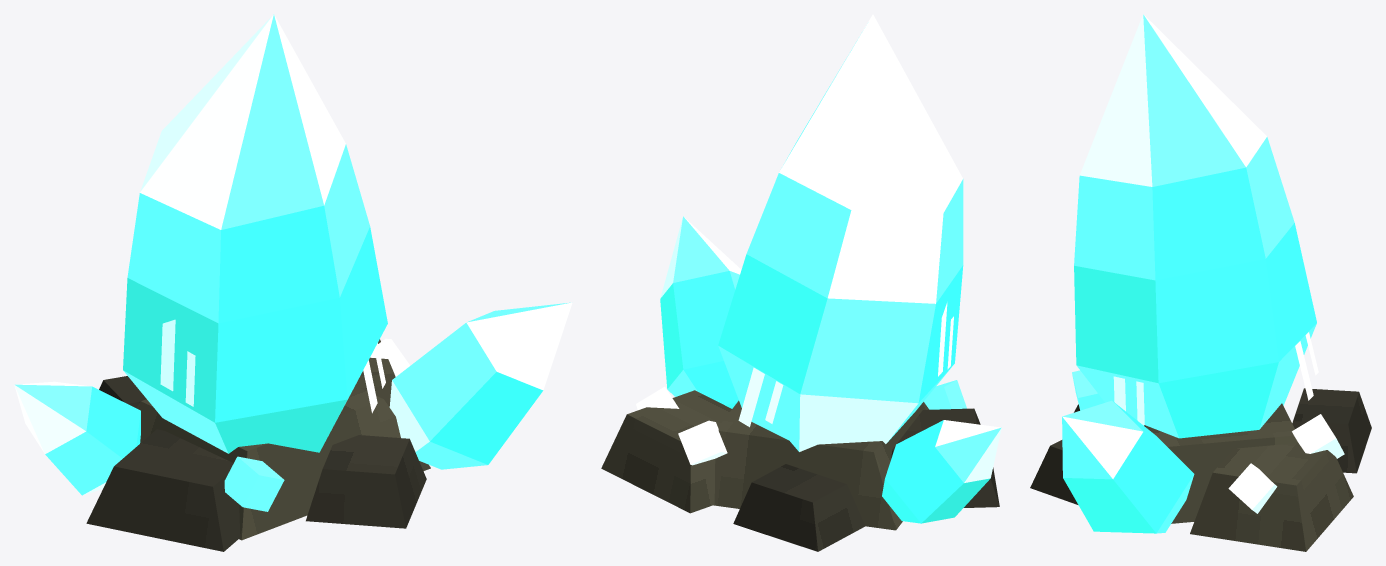
File: pk_shard.glb
3 renders of one model, left to right at view 1: azimuth 30°, elevation 25°; view 2: azimuth 150°, elevation 25°; view 3: azimuth 270°, elevation 25°, orthographic. The views are drawn at different scales.
Visible parts, largest first — view 1: glow_shard, pk_shard; view 2: glow_shard, pk_shard; view 3: glow_shard, pk_shard.
Part boxes in pixels (x1,y1,x2,y2): glow_shard: [14, 14, 572, 511]; pk_shard: [86, 339, 430, 551]; glow_shard: [636, 14, 1001, 523]; pk_shard: [601, 390, 999, 551]; glow_shard: [1062, 14, 1344, 533]; pk_shard: [1030, 388, 1371, 551].
Bounding box in the file's own units: 0.309 × 0.3179 × 0.2207.
5 materials, 2 textured.
